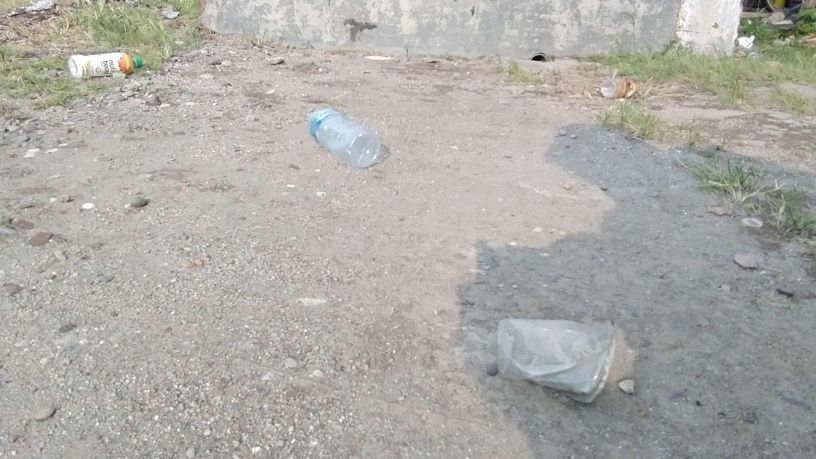botol: (302, 96, 383, 168), (69, 38, 149, 81)
